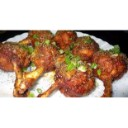chicken_lollipop: (42, 46, 99, 99), (24, 43, 58, 100), (89, 49, 128, 95), (1, 41, 31, 97)
